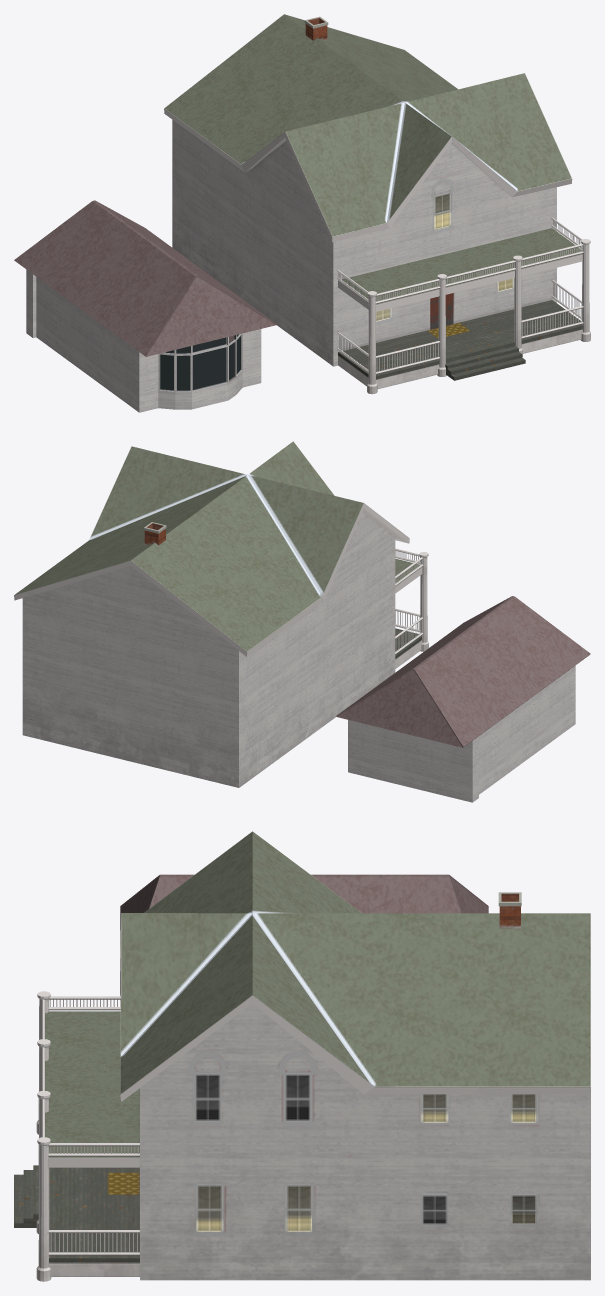
The model's file is farmhouse__low-poly.glb.
The picture shows the model from 3 angles, top to bottom: view 1: azimuth 30°, elevation 25°; view 2: azimuth 150°, elevation 25°; view 3: azimuth 270°, elevation 25°; orthographic projection. The views are drawn at different scales.
Visible parts, largest first — view 1: House_1, House_2, House_1_split_3_2, House_1_split_2_2, House_1_split, House_1_split_1, House_1_split_2; view 2: House_1, House_2, House_1_split_3_2; view 3: House_1, House_2, House_1_split_3, House_1_split.
Part boxes in pixels (x1=…): House_1: x1=164, y1=14, x2=590, y2=388; House_2: x1=14, y1=200, x2=276, y2=412; House_1_split_3_2: x1=367, y1=291, x2=377, y2=394; House_1_split_2_2: x1=437, y1=274, x2=446, y2=376; House_1_split: x1=337, y1=225, x2=583, y2=303; House_1_split_1: x1=513, y1=255, x2=522, y2=356; House_1_split_2: x1=337, y1=295, x2=583, y2=374; House_1: x1=14, y1=441, x2=423, y2=787; House_2: x1=336, y1=596, x2=590, y2=802; House_1_split_3_2: x1=419, y1=552, x2=428, y2=651; House_1: x1=14, y1=831, x2=590, y2=1281; House_2: x1=120, y1=874, x2=488, y2=996; House_1_split_3: x1=37, y1=1137, x2=51, y2=1281; House_1_split: x1=48, y1=1007, x2=139, y2=1156.
Bounding box in the file's own units: 18.86 × 9.41 × 15.75.
2 materials, 2 textured.
